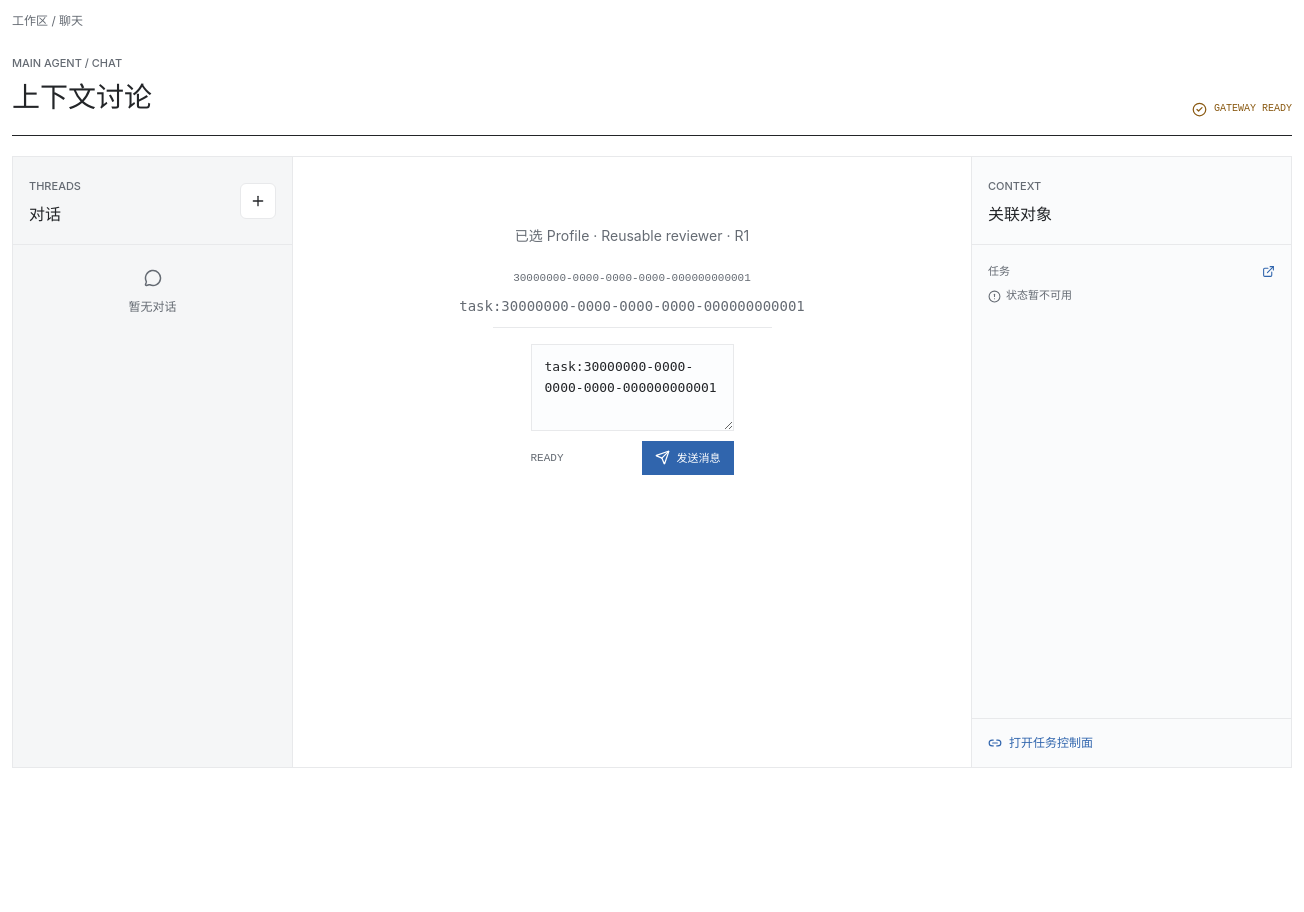
Test case: native chat uses reviewed Profile pins and explicit local session entry › checks the matching native context empty thread before its first prompt
expect the text "已选 Profile · Reusable reviewer · R1" is shown: met, box [515,224,749,247]
Replace the text in the text box named "给 Main Agent 的消息" with "Discuss the original controlled task" at (632, 388), box [530,344,734,431]
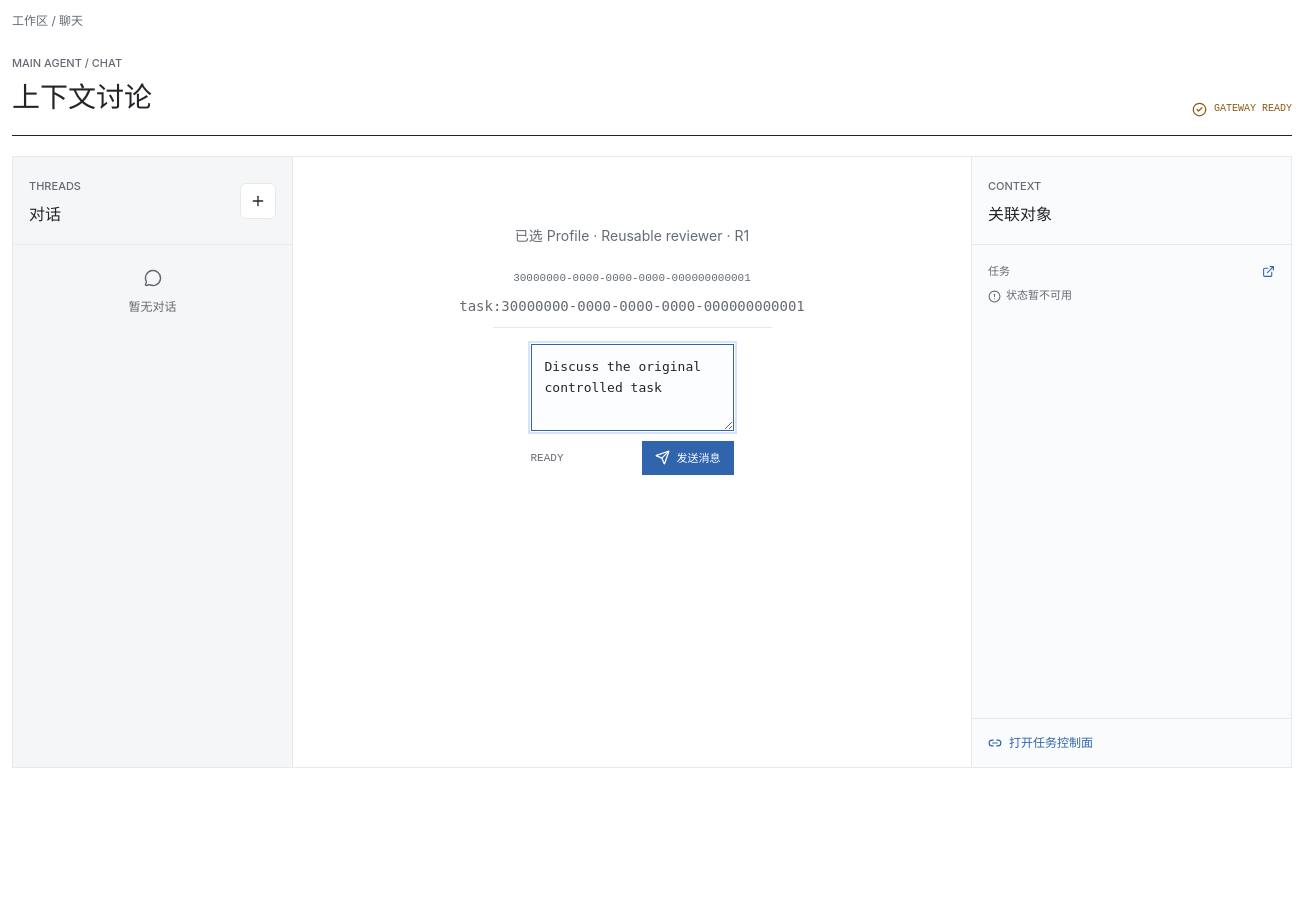
Click the button "发送消息".
click(688, 458)  # box [642,441,734,475]
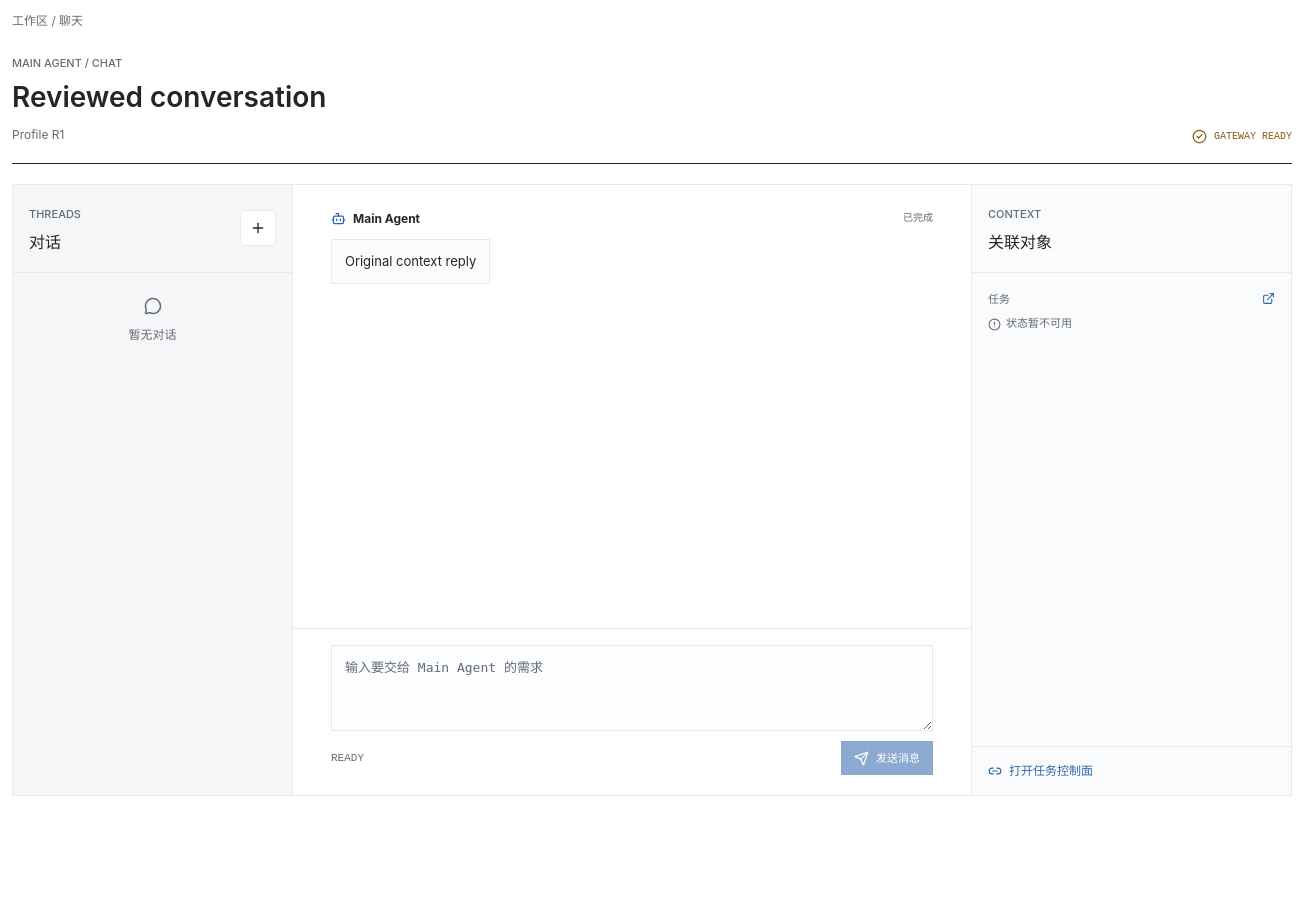
expect the text "Original context reply" is shown: met, box [331,239,490,284]
